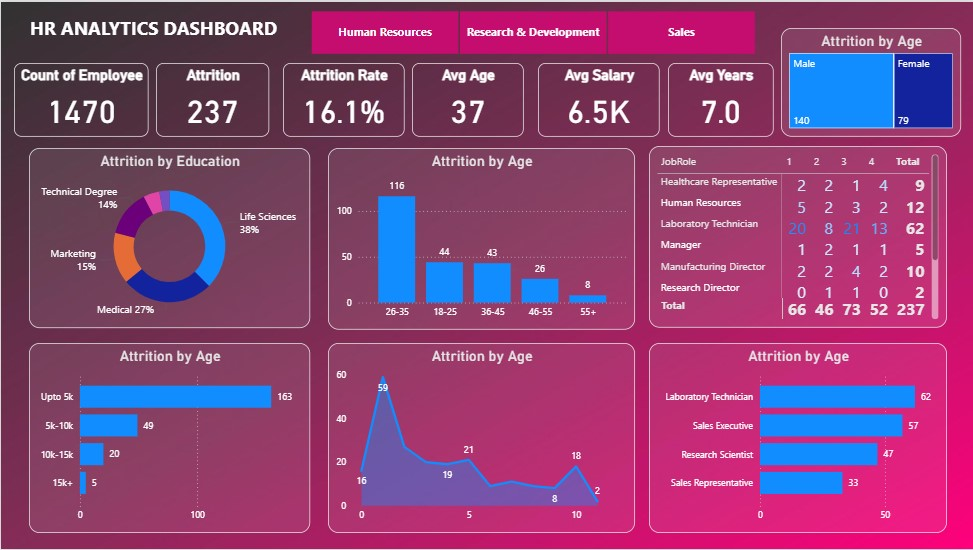

What the dashboard file says about the page in this screenshot:
{"tool":"powerbi","page":{"name":"Page 1","canvas":[1280,720],"ordinal":0},"visuals":[{"type":"card","title":"Count of Employee","fields":{"Values":["CountNonNull(HR_Analytics.EmpID)"]},"box":[17.1,80,177.1,97.1],"z":0},{"type":"card","title":"Attrition","fields":{"Values":["Sum(HR_Analytics.AttritionCount)"]},"box":[204.3,80,148.6,97.1],"z":1000},{"type":"card","title":"Attrition Rate","fields":{"Values":["HR_Analytics.AttritionRate"]},"box":[371.4,80,160,97.1],"z":2000},{"type":"card","title":"Avg Age","fields":{"Values":["Avg(HR_Analytics.Age)"]},"box":[541.4,80,147.1,97.1],"z":3000},{"type":"card","title":"Avg Salary","fields":{"Values":["Avg(HR_Analytics.MonthlyIncome)"]},"box":[707.1,80,160,97.1],"z":4000},{"type":"card","title":"Avg Years","fields":{"Values":["Avg(HR_Analytics.YearsAtCompany)"]},"box":[877.1,80,138.6,97.1],"z":5000},{"type":"donutChart","title":"Attrition by Education","fields":{"Category":["HR_Analytics.EducationField"],"Y":["Sum(HR_Analytics.AttritionCount)"]},"box":[36.8,192.1,369.7,236.8],"z":6000},{"type":"columnChart","title":"Attrition by Age","fields":{"Category":["HR_Analytics.AgeGroup"],"Y":["Sum(HR_Analytics.AttritionCount)"]},"box":[430.3,192.1,403.9,239.5],"z":7000},{"type":"pivotTable","fields":{"Rows":["HR_Analytics.JobRole"],"Columns":["HR_Analytics.JobSatisfaction"],"Values":["Sum(HR_Analytics.AttritionCount)"]},"box":[852.6,189.5,392.1,239.5],"z":8000},{"type":"barChart","title":"Attrition by Age","fields":{"Category":["HR_Analytics.SalarySlab"],"Y":["Sum(HR_Analytics.AttritionCount)"]},"box":[36.8,448.7,369.7,250],"z":9000},{"type":"barChart","title":"Attrition by Age","fields":{"Category":["HR_Analytics.JobRole"],"Y":["Sum(HR_Analytics.AttritionCount)"]},"box":[852.6,448.7,392.1,250],"z":10000},{"type":"areaChart","title":"Attrition by Age","fields":{"Category":["HR_Analytics.YearsAtCompany"],"Y":["Sum(HR_Analytics.AttritionCount)"]},"box":[430.3,448.7,403.9,250],"z":11000},{"type":"treemap","title":"Attrition by Age","fields":{"Group":["HR_Analytics.Gender"],"Values":["Sum(HR_Analytics.AttritionCount)"]},"box":[1025.7,34.3,237.1,142.9],"z":12000},{"type":"slicer","fields":{"Values":["HR_Analytics.Department"]},"box":[382.9,5.3,632.9,69.7],"z":13000},{"type":"textbox","box":[17.1,11.4,367.1,58.6],"z":14000}]}

Visuals, with their boxes in screenshot pixels (x1, y1, x2, y2), scaled from the page's 1280x720 canvas onto the 973x550 screenshot:
"Count of Employee" card: (x1=13, y1=61, x2=148, y2=135)
"Attrition" card: (x1=155, y1=61, x2=268, y2=135)
"Attrition Rate" card: (x1=282, y1=61, x2=404, y2=135)
"Avg Age" card: (x1=412, y1=61, x2=523, y2=135)
"Avg Salary" card: (x1=538, y1=61, x2=659, y2=135)
"Avg Years" card: (x1=667, y1=61, x2=772, y2=135)
"Attrition by Education" donutChart: (x1=28, y1=147, x2=309, y2=328)
"Attrition by Age" columnChart: (x1=327, y1=147, x2=634, y2=330)
pivotTable - HR_Analytics.JobRole x HR_Analytics.JobSatisfaction: (x1=648, y1=145, x2=946, y2=328)
"Attrition by Age" barChart: (x1=28, y1=343, x2=309, y2=534)
"Attrition by Age" barChart: (x1=648, y1=343, x2=946, y2=534)
"Attrition by Age" areaChart: (x1=327, y1=343, x2=634, y2=534)
"Attrition by Age" treemap: (x1=780, y1=26, x2=960, y2=135)
slicer - HR_Analytics.Department: (x1=291, y1=4, x2=772, y2=57)
textbox: (x1=13, y1=9, x2=292, y2=53)
